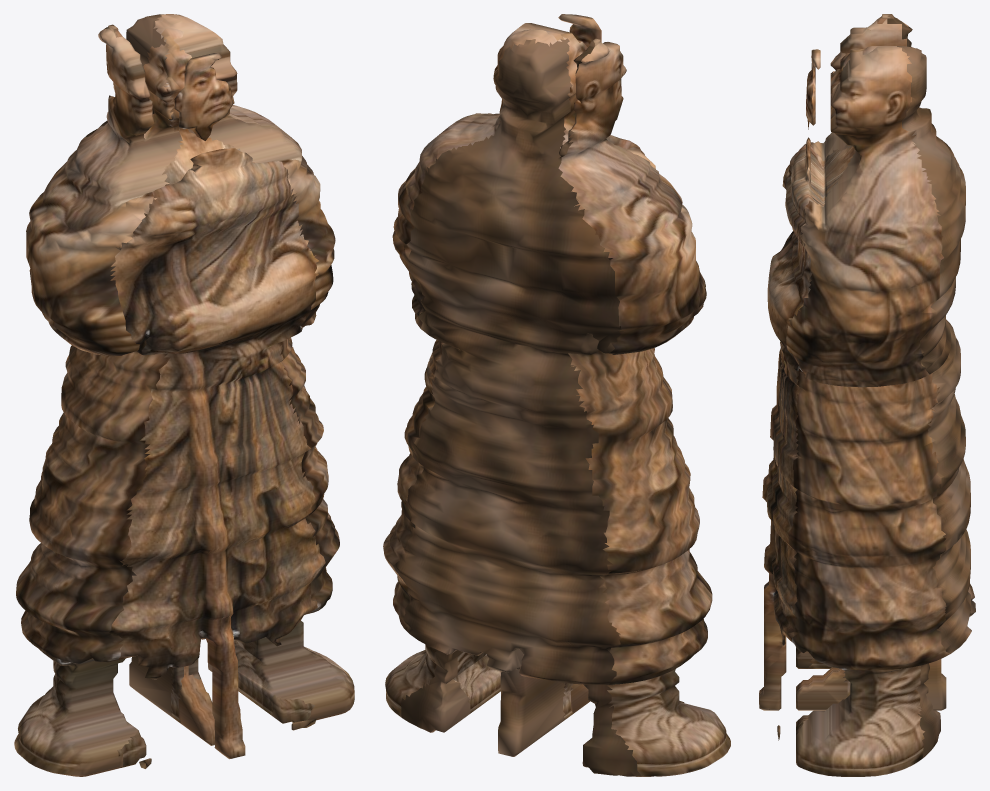
The model's file is kinnara.glb.
3 renders of one model, left to right at view 1: azimuth 30°, elevation 25°; view 2: azimuth 150°, elevation 25°; view 3: azimuth 270°, elevation 25°, orthographic. The views are drawn at different scales.
Parts seen in each view (by area): view 1: kinnara; view 2: kinnara; view 3: kinnara.
Boxes of the visible parts, <box> form: kinnara: <box>14,14,354,776</box>; kinnara: <box>383,14,730,776</box>; kinnara: <box>759,14,975,776</box>.
Size of the model in its own units: 0.4794 by 1.01 by 0.2972.
1 material, 1 textured.
